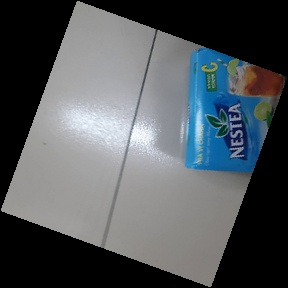Nestea: (183, 45, 288, 181)
